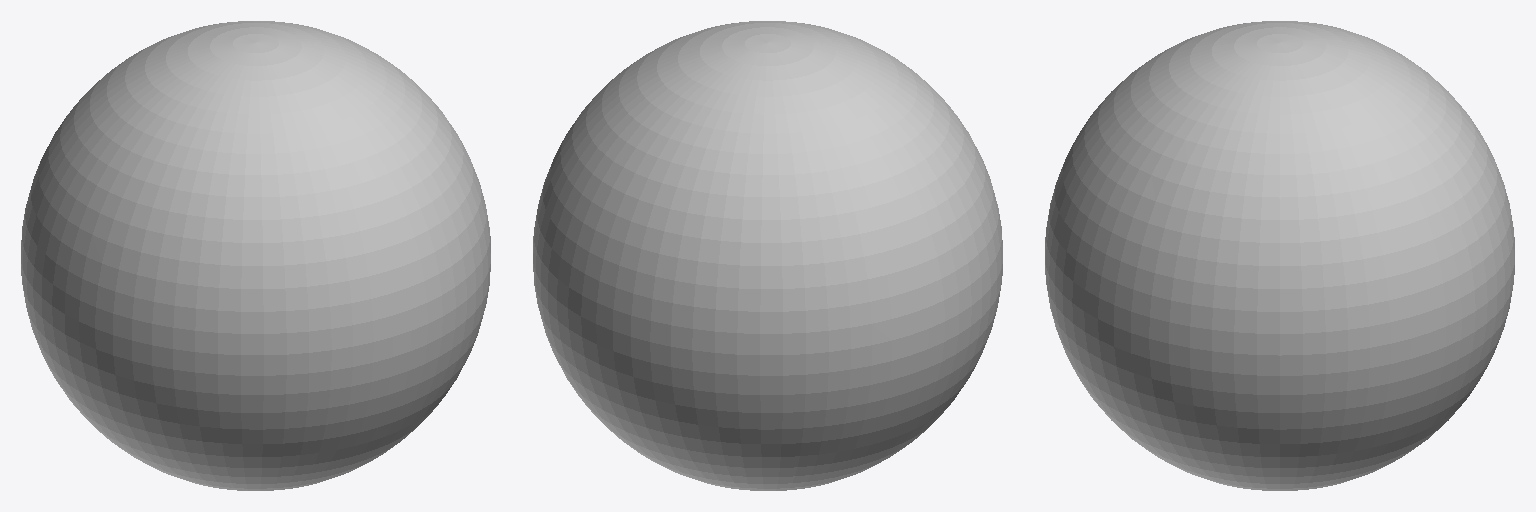
Rendered from moon.obj.
The picture shows the model from 3 angles: view 1: azimuth 30°, elevation 25°; view 2: azimuth 150°, elevation 25°; view 3: azimuth 270°, elevation 25°; orthographic projection.
Parts seen in each view (by area): view 1: Esfera_UV; view 2: Esfera_UV; view 3: Esfera_UV.
Boxes of the visible parts, x1=… form: Esfera_UV: x1=21, y1=21, x2=490, y2=490; Esfera_UV: x1=533, y1=21, x2=1002, y2=490; Esfera_UV: x1=1045, y1=21, x2=1514, y2=490.
Bounding box in the file's own units: 0.54 × 0.54 × 0.54.